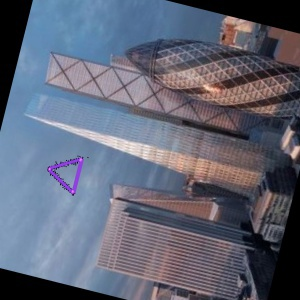triangle: (45, 153, 85, 198)
